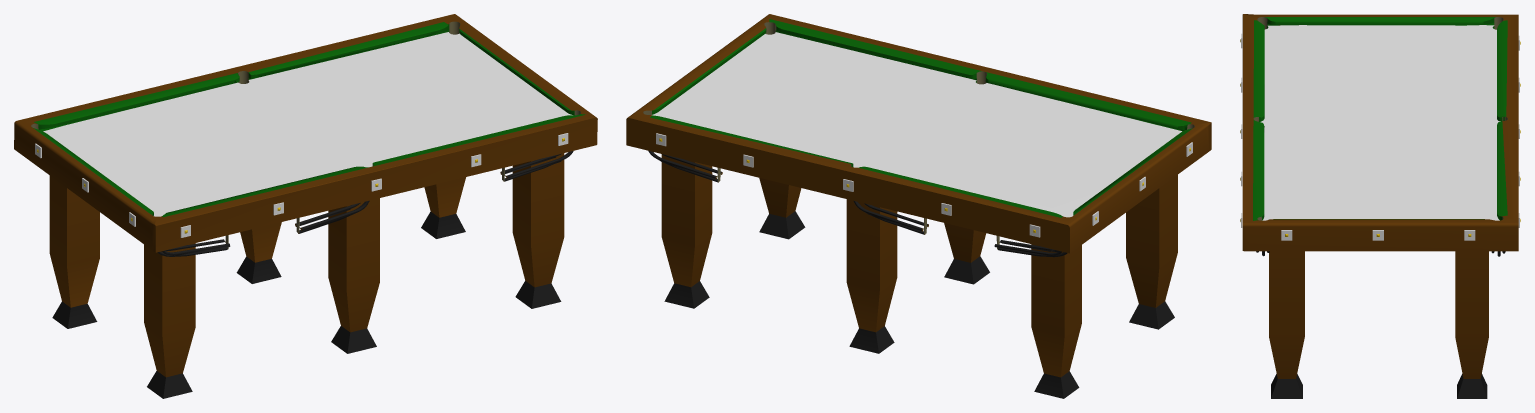
Rendered from Experimental snooker table.fbx.
3 renders of one model, left to right at view 1: azimuth 30°, elevation 25°; view 2: azimuth 150°, elevation 25°; view 3: azimuth 270°, elevation 25°, orthographic. The views are drawn at different scales.
Parts seen in each view (by area): view 1: Snooker Table; view 2: Snooker Table; view 3: Snooker Table.
Part boxes in pixels (x1,y1,x2,y2): Snooker Table: (14, 14, 597, 398); Snooker Table: (626, 14, 1211, 398); Snooker Table: (1240, 14, 1520, 398).
Bounding box in the file's own units: 384 × 156 × 214.
